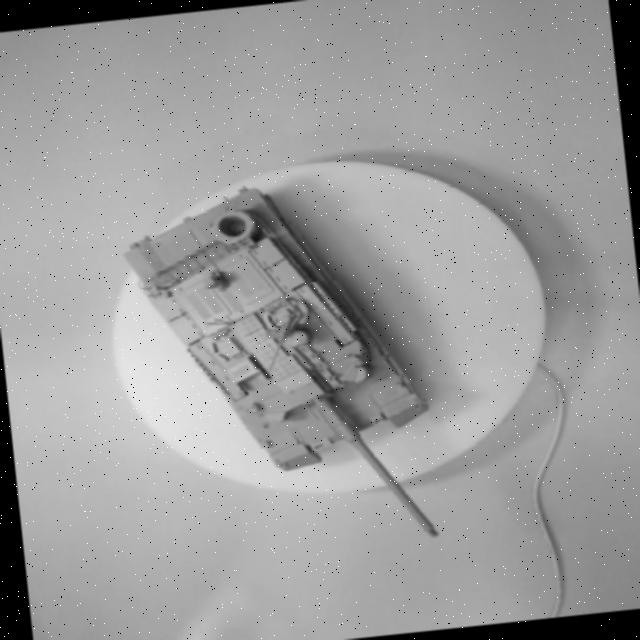korea tank: (105, 123, 463, 576)
